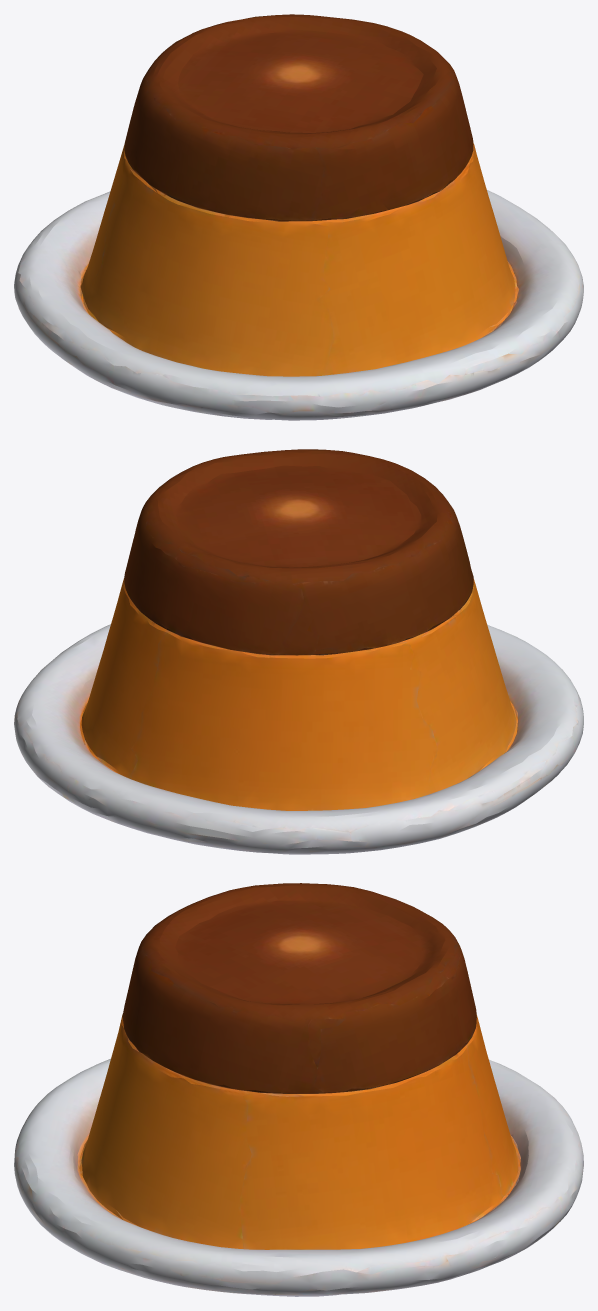
The model's file is pudding.glb.
The picture shows the model from 3 angles, top to bottom: view 1: azimuth 30°, elevation 25°; view 2: azimuth 150°, elevation 25°; view 3: azimuth 270°, elevation 25°; orthographic projection. The views are drawn at different scales.
Parts seen in each view (by area): view 1: Mesh; view 2: Mesh; view 3: Mesh.
Boxes of the visible parts, left/top/right/bottom form: Mesh: left=14, top=14, right=583, bottom=420; Mesh: left=14, top=449, right=583, bottom=854; Mesh: left=14, top=883, right=583, bottom=1296.
Size of the model in its own units: 0.9972 by 0.5328 by 1.
1 material, 1 textured.
